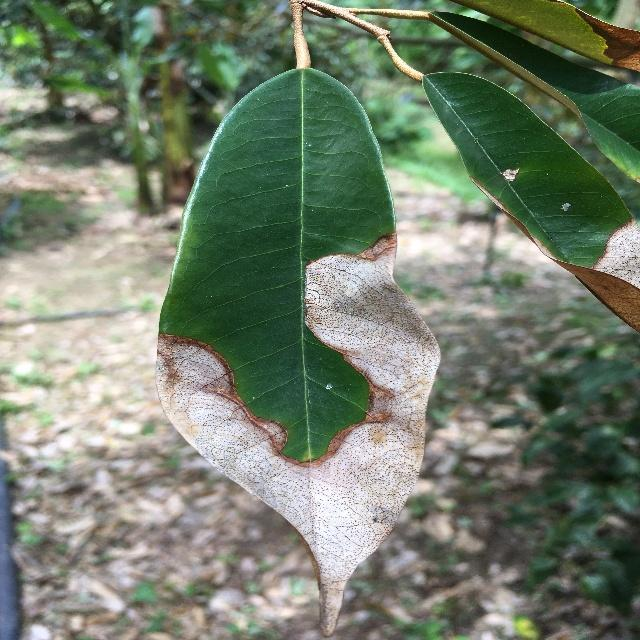Leaf Blight: (146, 62, 447, 640)
